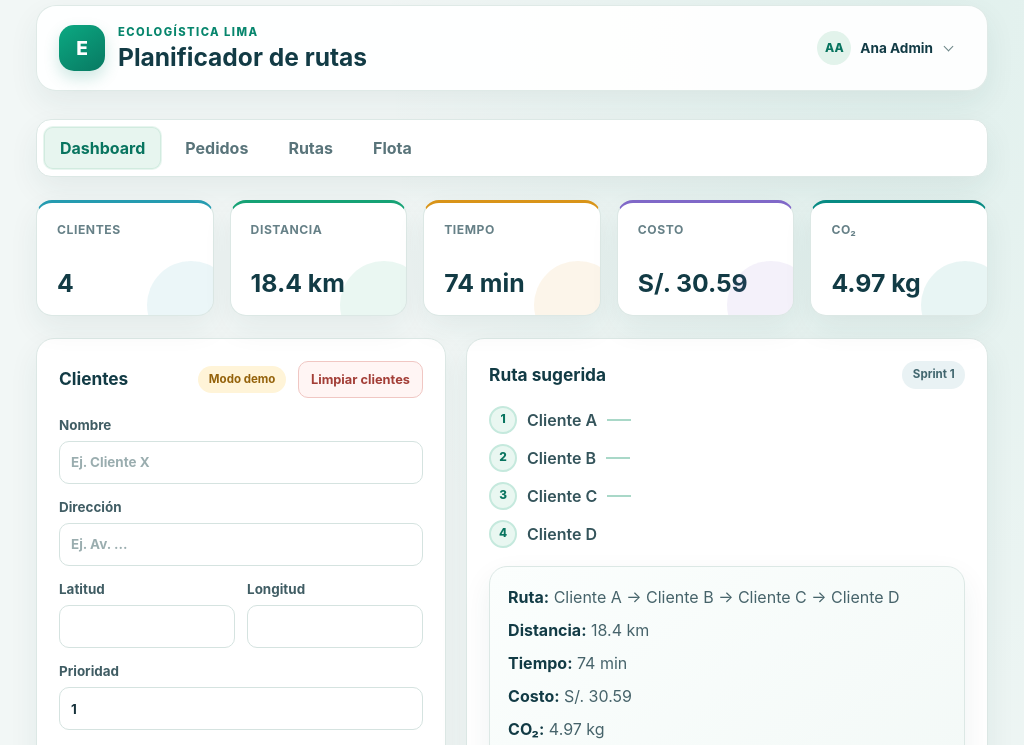
Test: Limpiar clientes › en modo demo (API caída) no borra los datos de demostración
The image size is (1024, 745).
Expected: the text "Modo demo" is shown, top-left (198, 366), bottom-right (286, 393)
Click the button "Limpiar clientes" at (360, 379), box top-left (298, 361), bottom-right (423, 398)
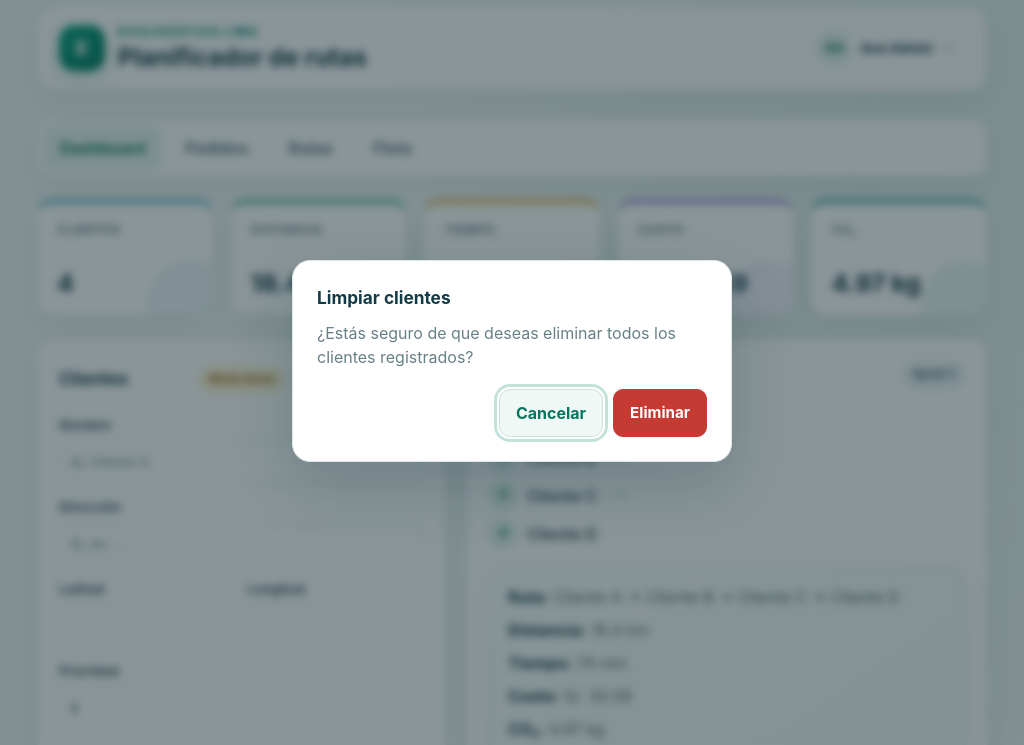
Click the button "Eliminar" at (660, 413), box top-left (613, 389), bottom-right (707, 437)
(page scrolled)
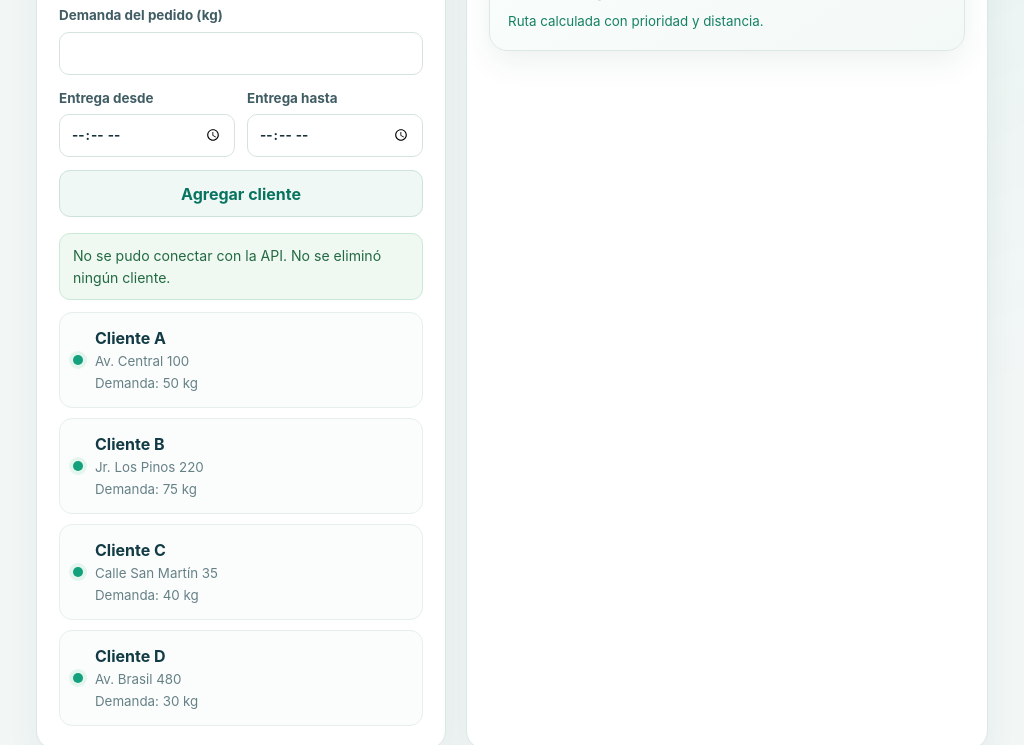
Expected: the text "Av. Central 100" is shown, top-left (95, 352), bottom-right (198, 372)
Expected: the text "No se pudo conectar con la API. No se eliminó ningún cliente." is shown, top-left (59, 233), bottom-right (423, 300)
